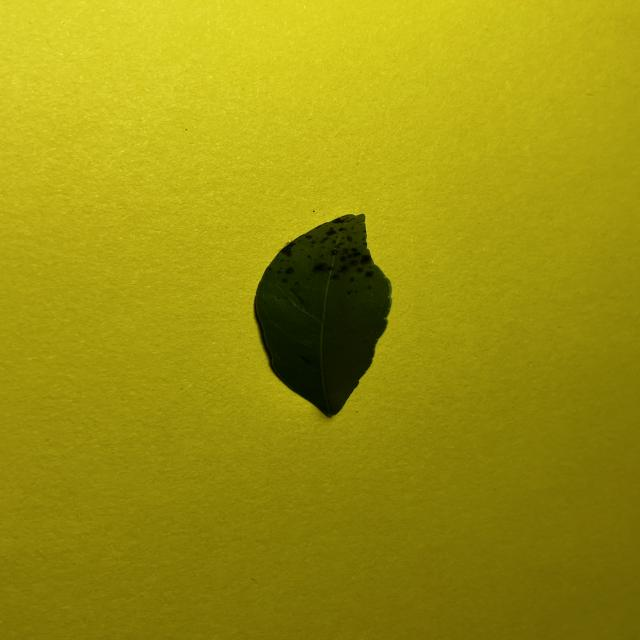sooty_mold: (255, 215, 391, 417)
